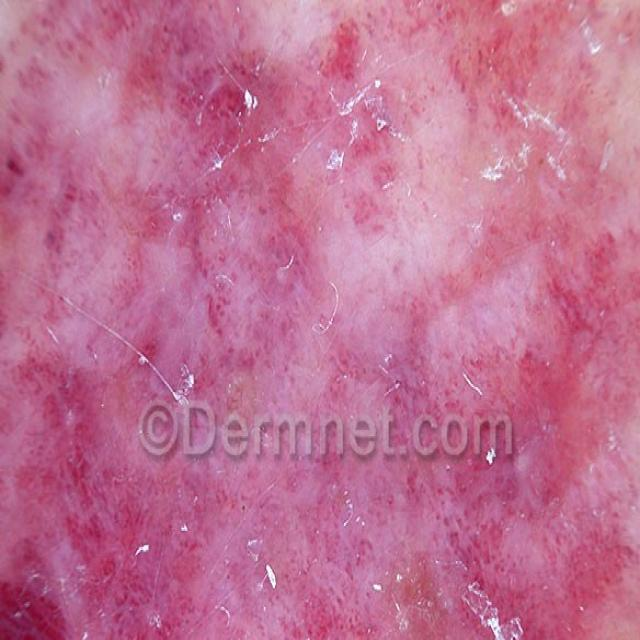Vascular Tumors: (0, 44, 583, 640)
